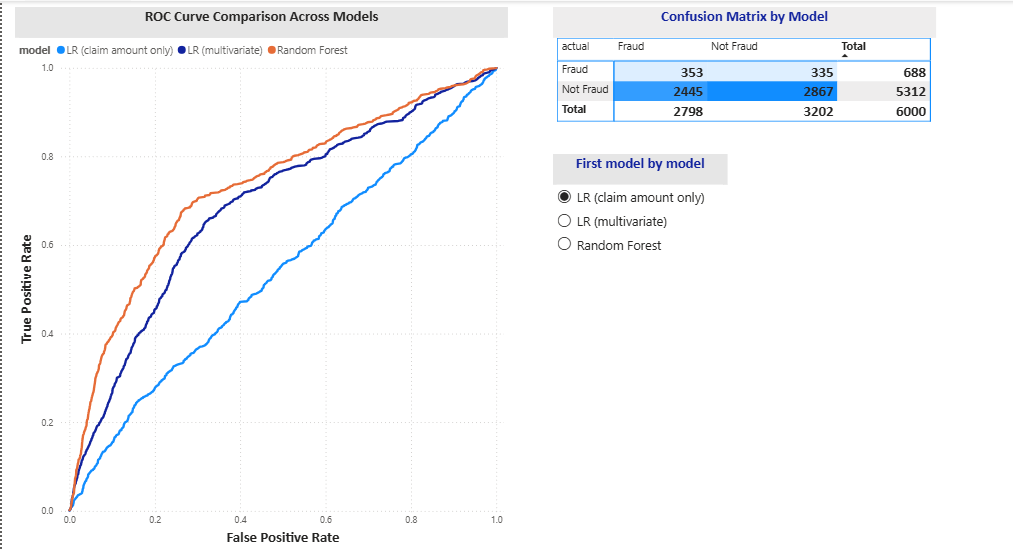

Layout of this report page (visuals, bound fields, positions):
{"tool":"powerbi","page":{"name":"Model Diagnostics","canvas":[1280,720],"ordinal":2},"visuals":[{"type":"lineChart","title":"ROC Curve Comparison Across Models","fields":{"Category":["roc_curve_points.fpr"],"Y":["Avg(roc_curve_points.tpr)"],"Series":["roc_curve_points.model"]},"box":[15.9,31.9,624.4,688.1],"z":0},{"type":"listSlicer","fields":{"Values":["confusion_matrices.model"]},"box":[697.4,217.9,220.5,158.1],"z":1000},{"type":"pivotTable","title":"Confusion Matrix by Model","fields":{"Rows":["confusion_matrices.actual"],"Columns":["confusion_matrices.predicted"],"Values":["Sum(confusion_matrices.count)"]},"box":[697.4,31.9,484.9,172.7],"z":1001}]}

Visuals, with their boxes on the page's 1280x720 design canvas (x1, y1, x2, y2). These are canvas units, not pixel positions in the 1013x551 screenshot, which may show the page scaled, cropped or inside an application window:
"ROC Curve Comparison Across Models" lineChart: 16/32/640/720
listSlicer - confusion_matrices.model: 697/218/918/376
"Confusion Matrix by Model" pivotTable: 697/32/1182/205
